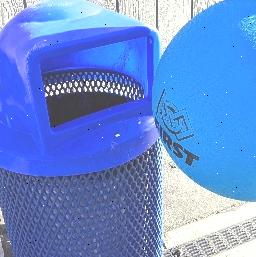algae: (149, 0, 256, 199)
